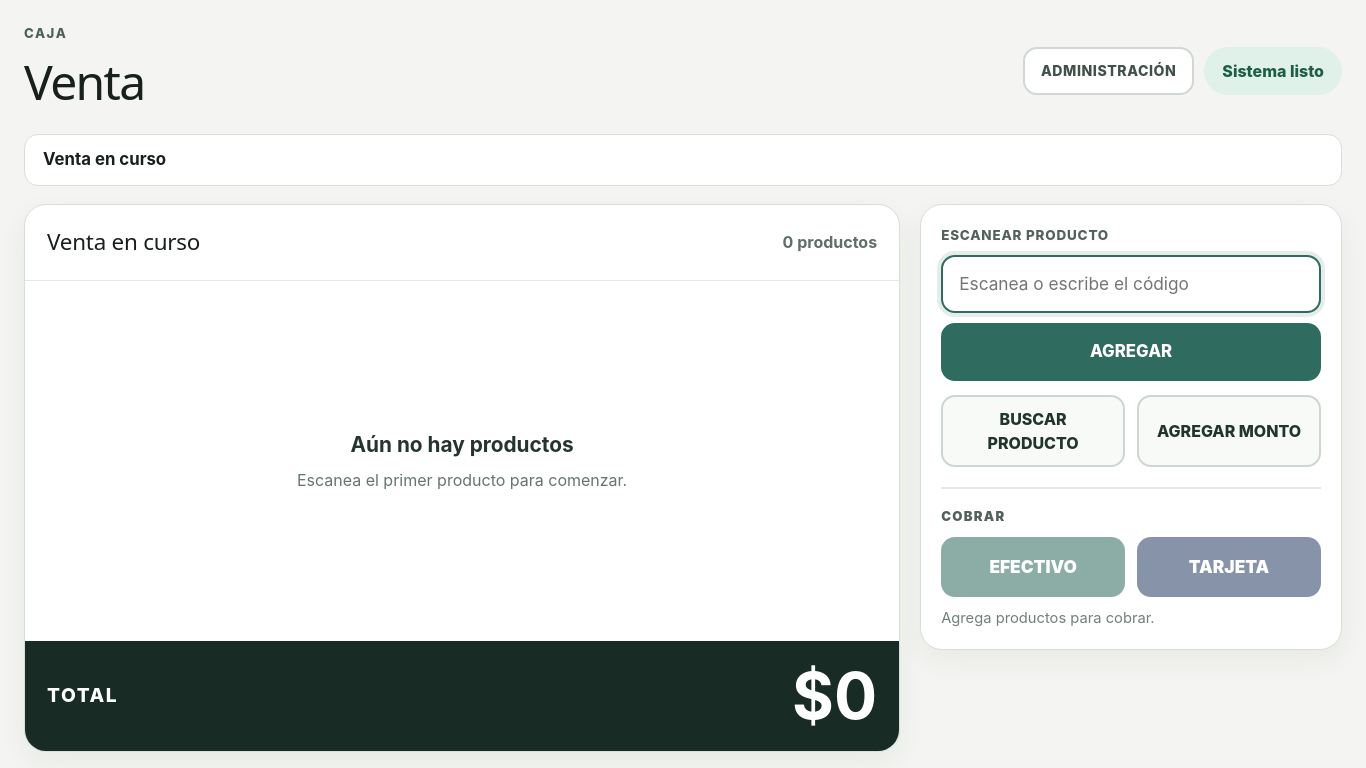
Test: App › desbloquea administración usando sólo el teclado numérico táctil
Check: the text "Sistema listo" is shown, box [1204,47,1342,95]
Click the button "ADMINISTRACIÓN".
click(1109, 71)  # box [1023,47,1194,95]
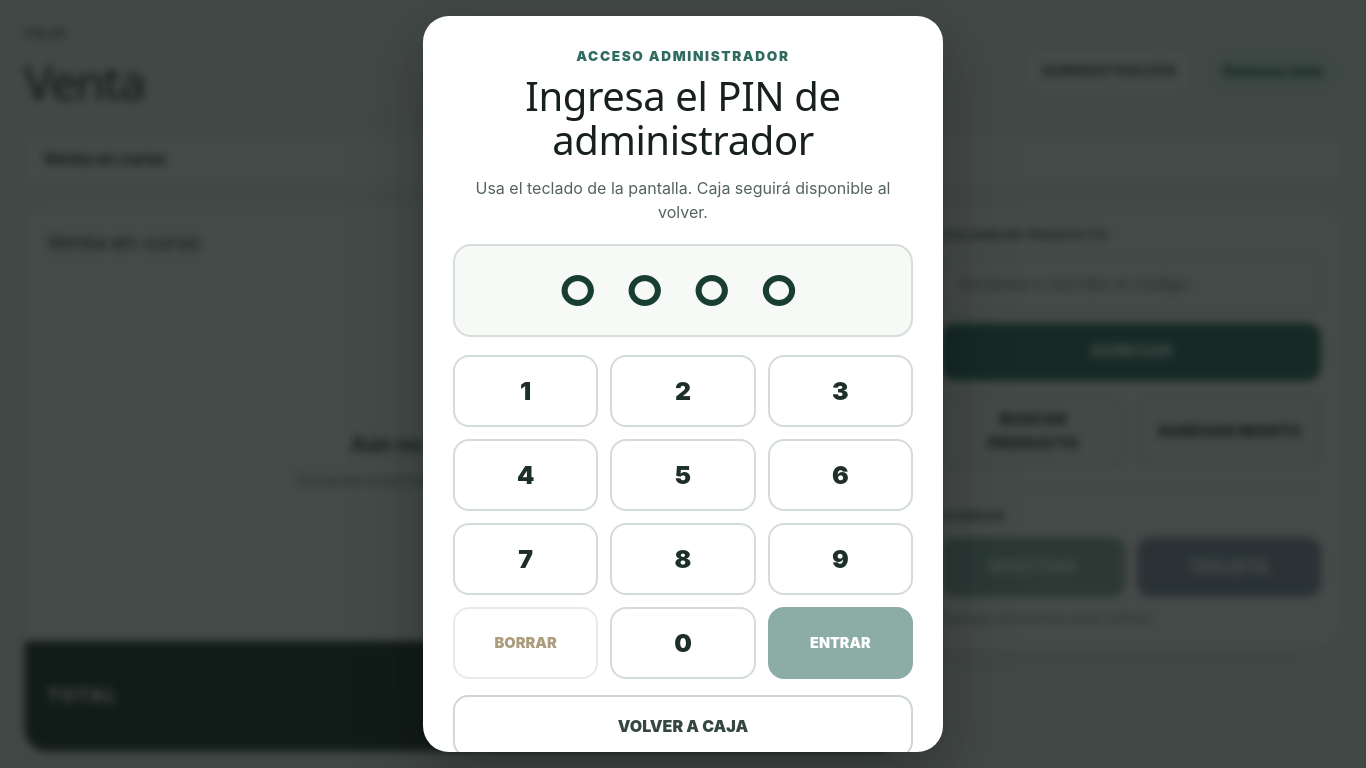
Check: the heading "Ingresa el PIN de administrador" is shown, box [525,68,841,167]
Click the button named "Número 1".
click(526, 391)  # box [453,355,598,427]
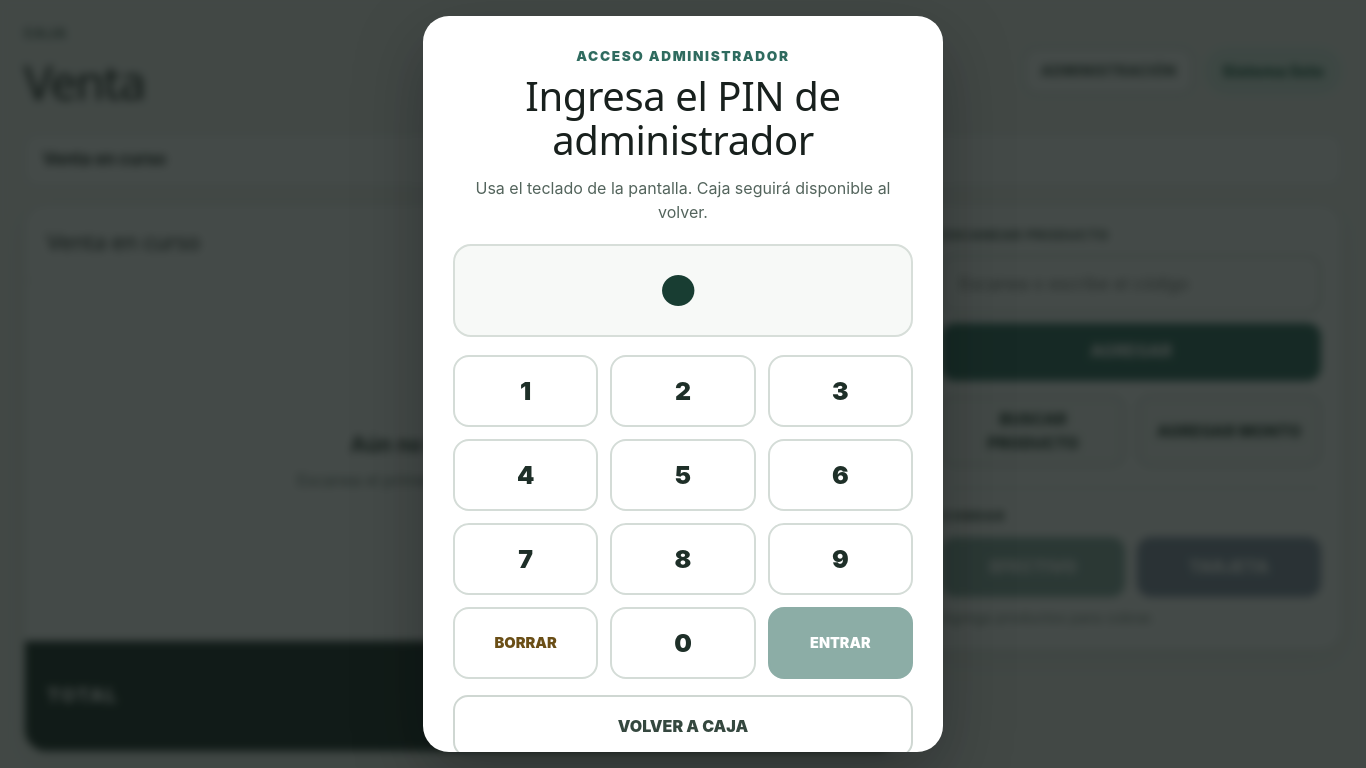
Click the button named "Número 2".
click(683, 391)  # box [610,355,756,427]
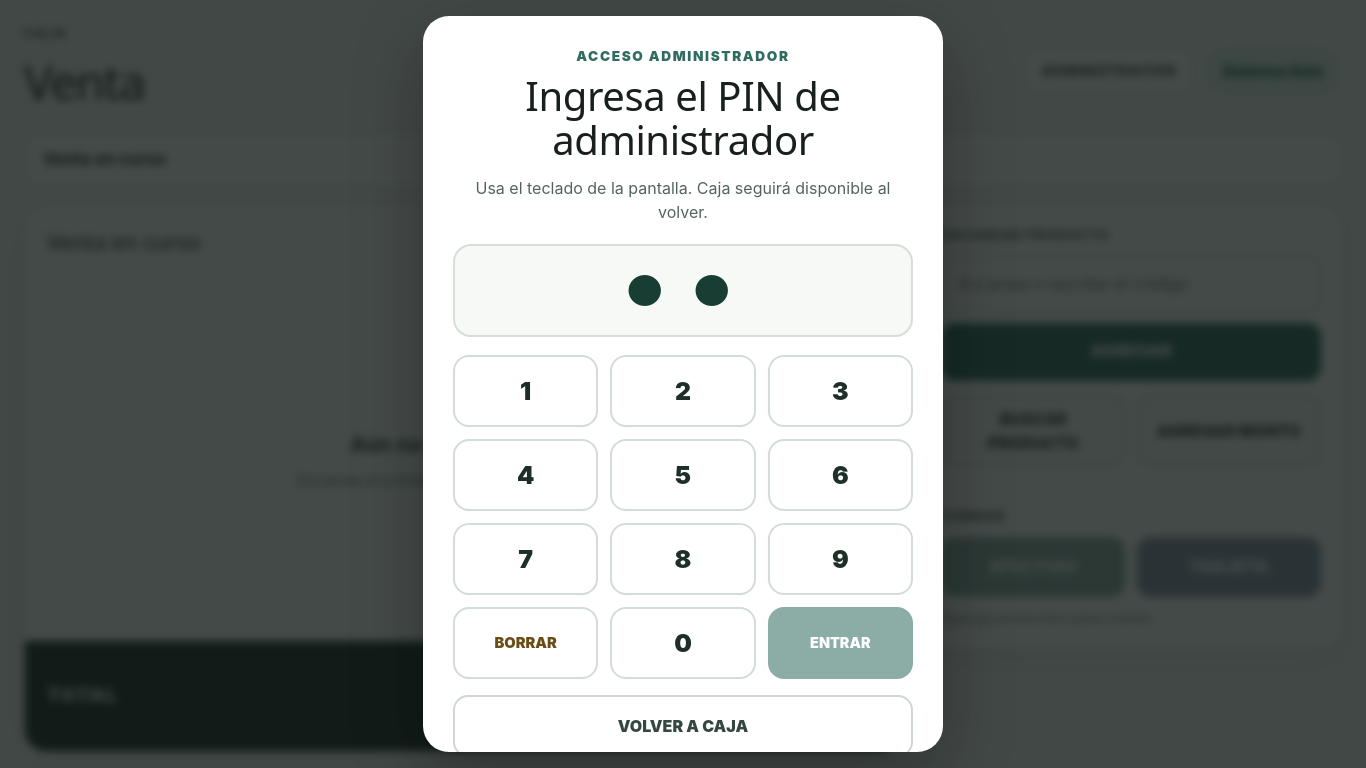
Click the button named "Número 3".
click(840, 391)  # box [768,355,913,427]
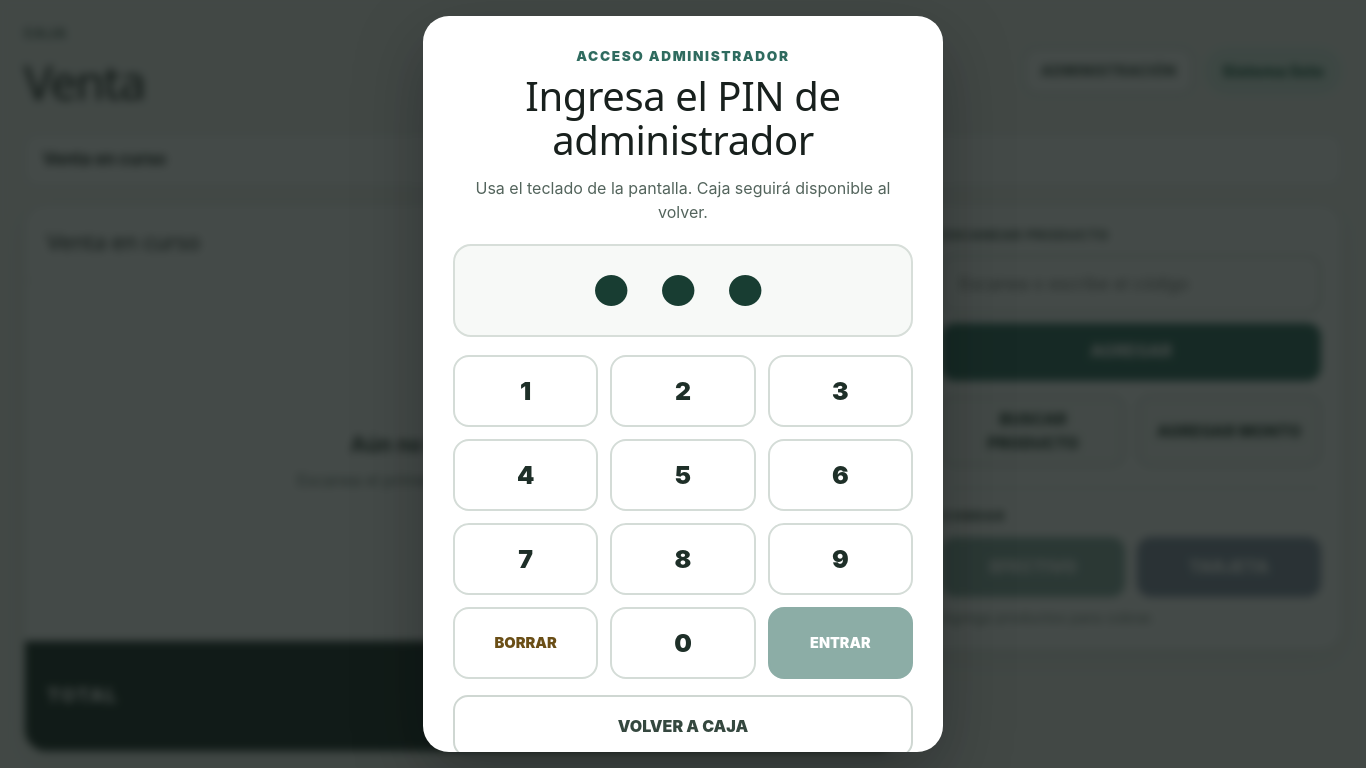
Click the button named "Número 4".
click(526, 475)  # box [453,439,598,511]
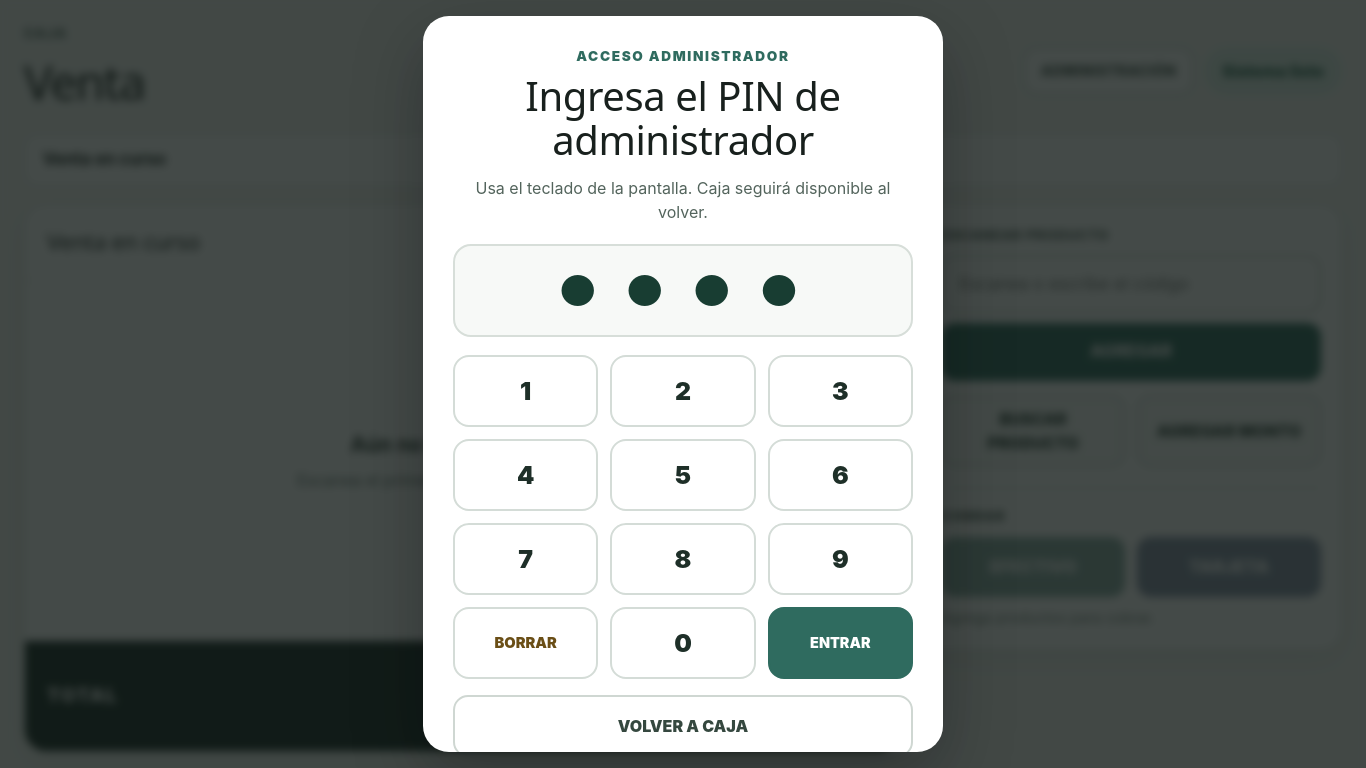
Click the button "ENTRAR".
click(840, 643)  # box [768,607,913,679]
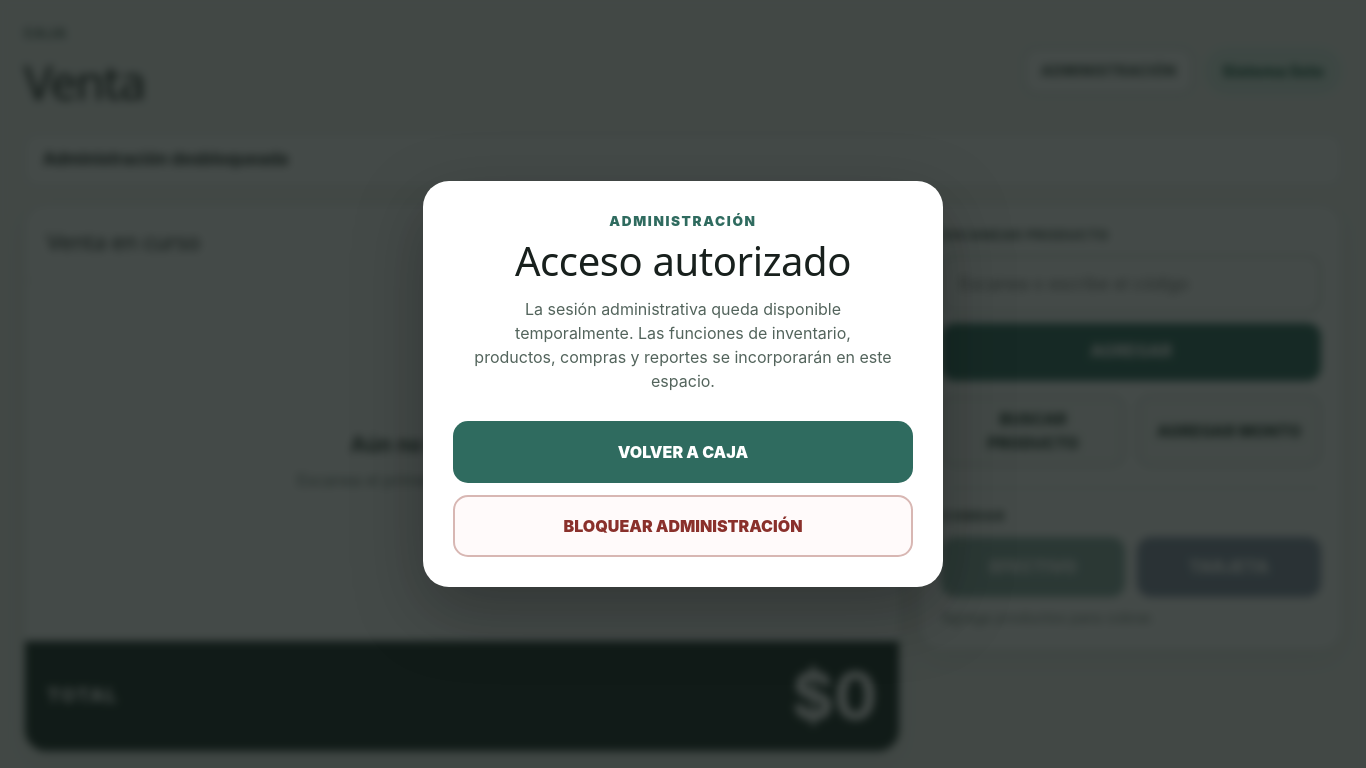
Check: the heading "Acceso autorizado" is shown, box [515,233,851,288]
